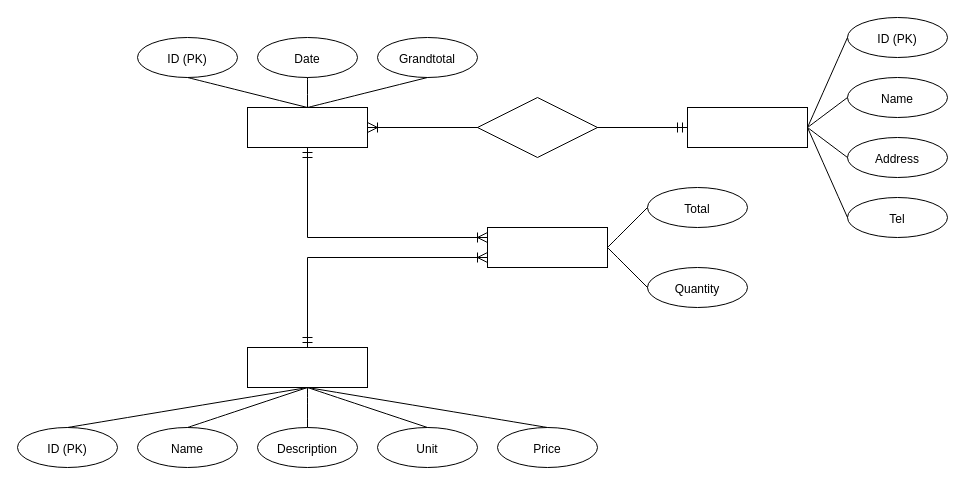
This 965x485 diagram has some shape labels left out. The shapes that lost their labels are listed below. From the top down, each one's box as (x1, y1, x2, y2) in pixels, then its label:
(246, 106, 368, 148): Oders
(476, 96, 598, 158): buy
(686, 106, 808, 148): Customers
(486, 226, 608, 268): Orderdetails
(246, 346, 368, 388): Products
